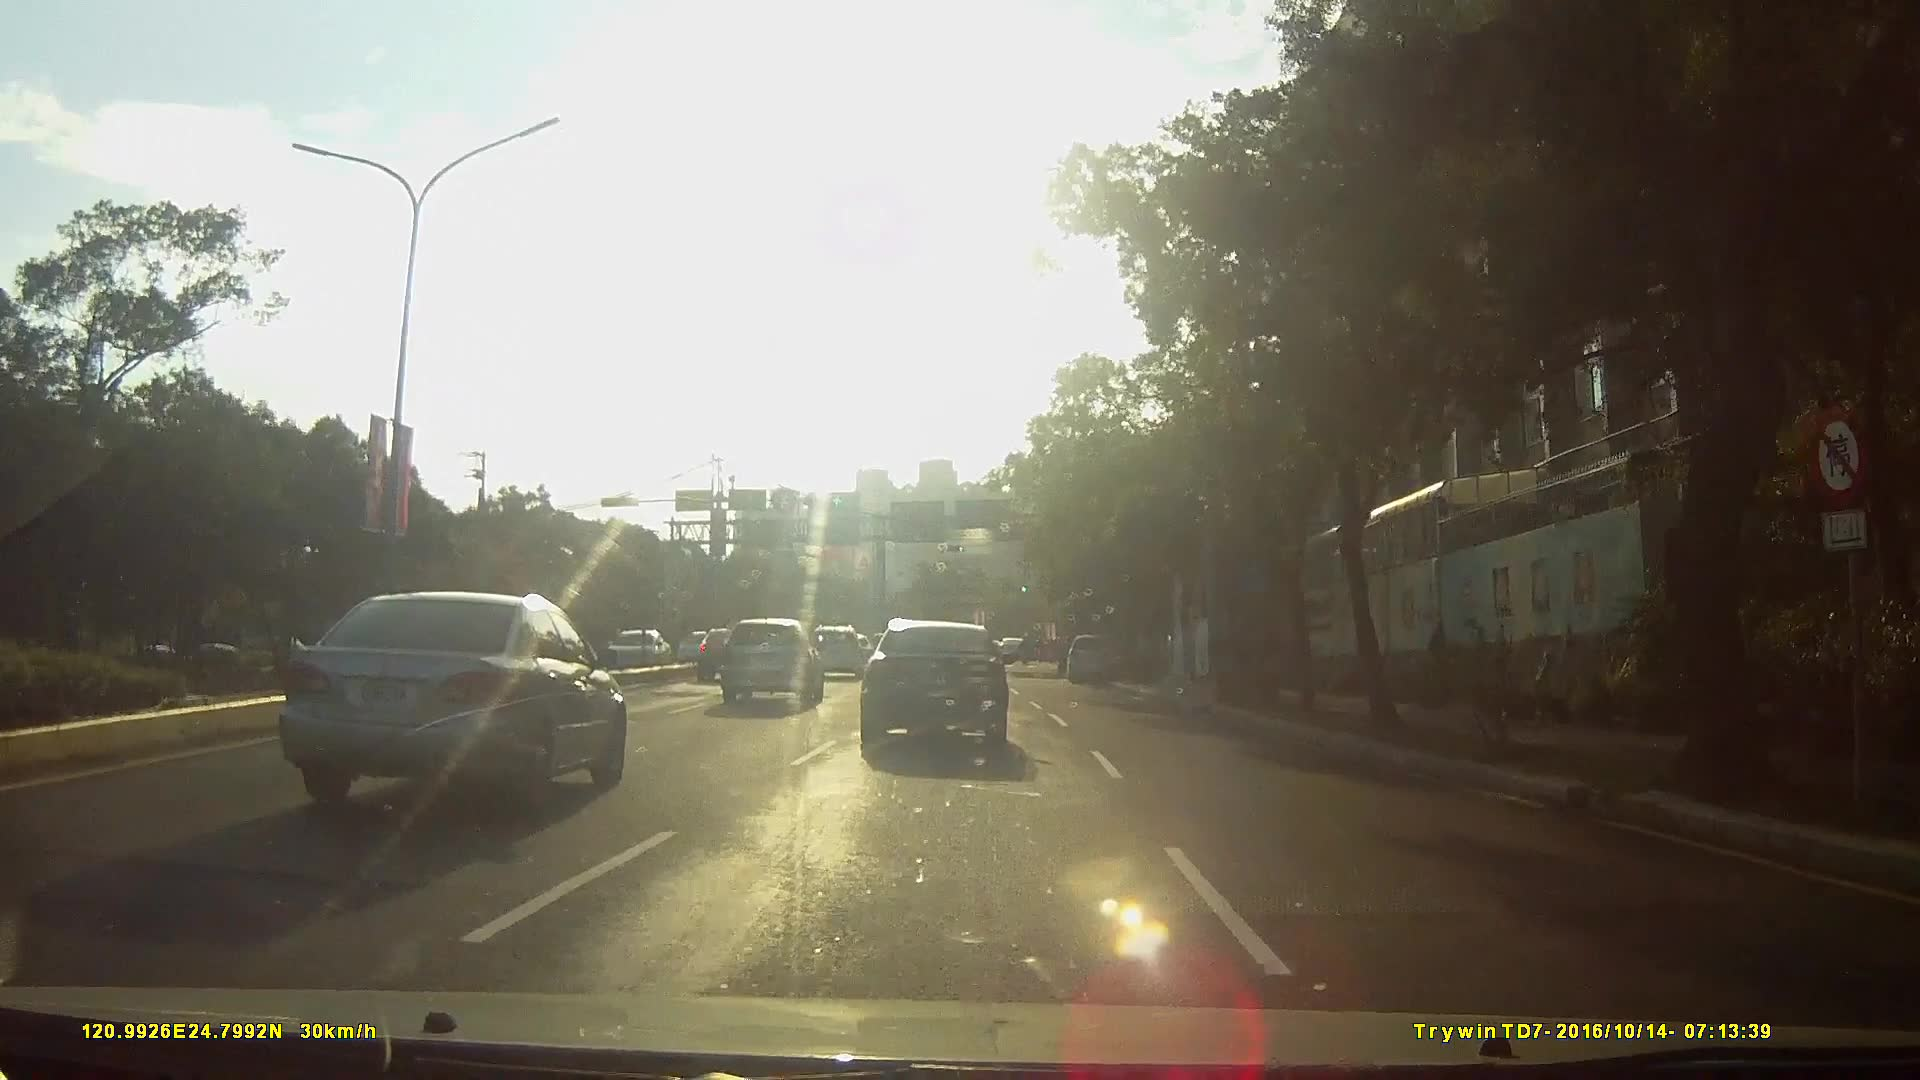vehicle: (253, 582, 640, 822), (860, 611, 1035, 760), (717, 612, 825, 705), (592, 617, 683, 670), (682, 622, 749, 680), (803, 621, 865, 678), (1062, 630, 1120, 680), (676, 626, 724, 663)
